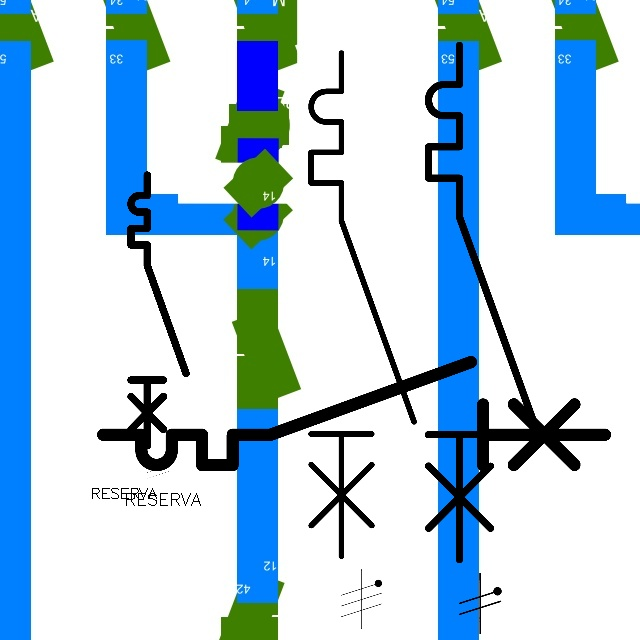interruptor_termomagnetico: (415, 32, 547, 573), (298, 40, 427, 569), (90, 349, 618, 478), (124, 168, 193, 452)
